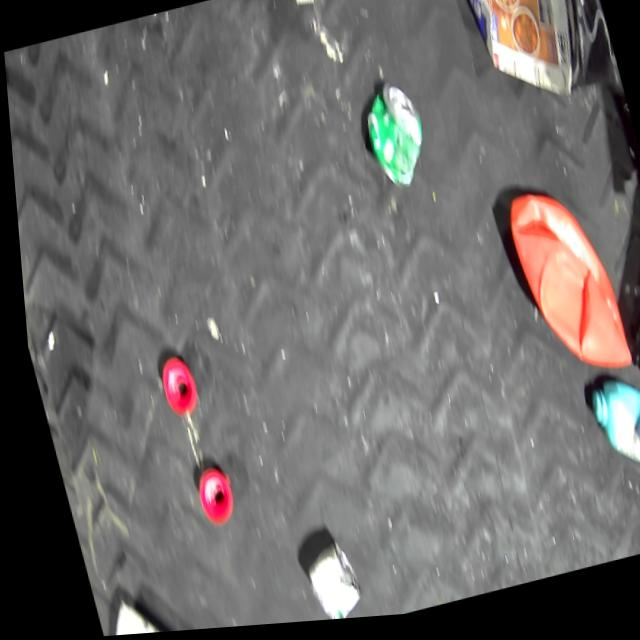can: (351, 78, 434, 204), (288, 537, 357, 625), (84, 589, 174, 637)
non_white_jug: (495, 181, 631, 401)
